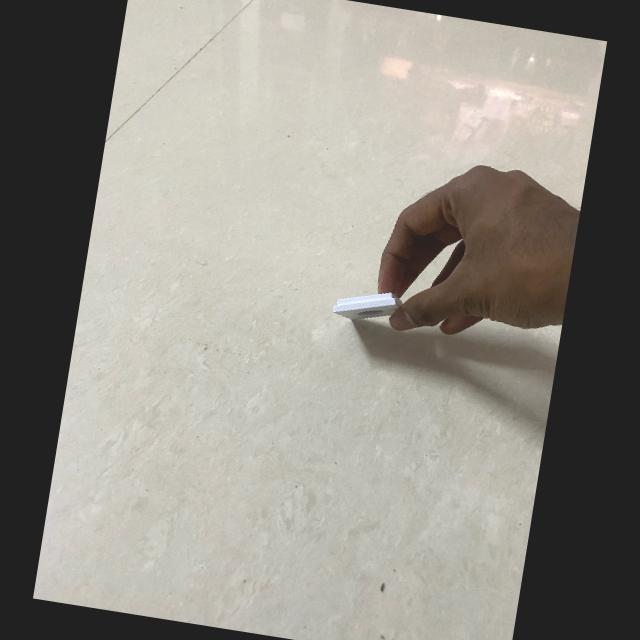RASPBERY PI CAM ENCLOSURE: (331, 285, 404, 328)
